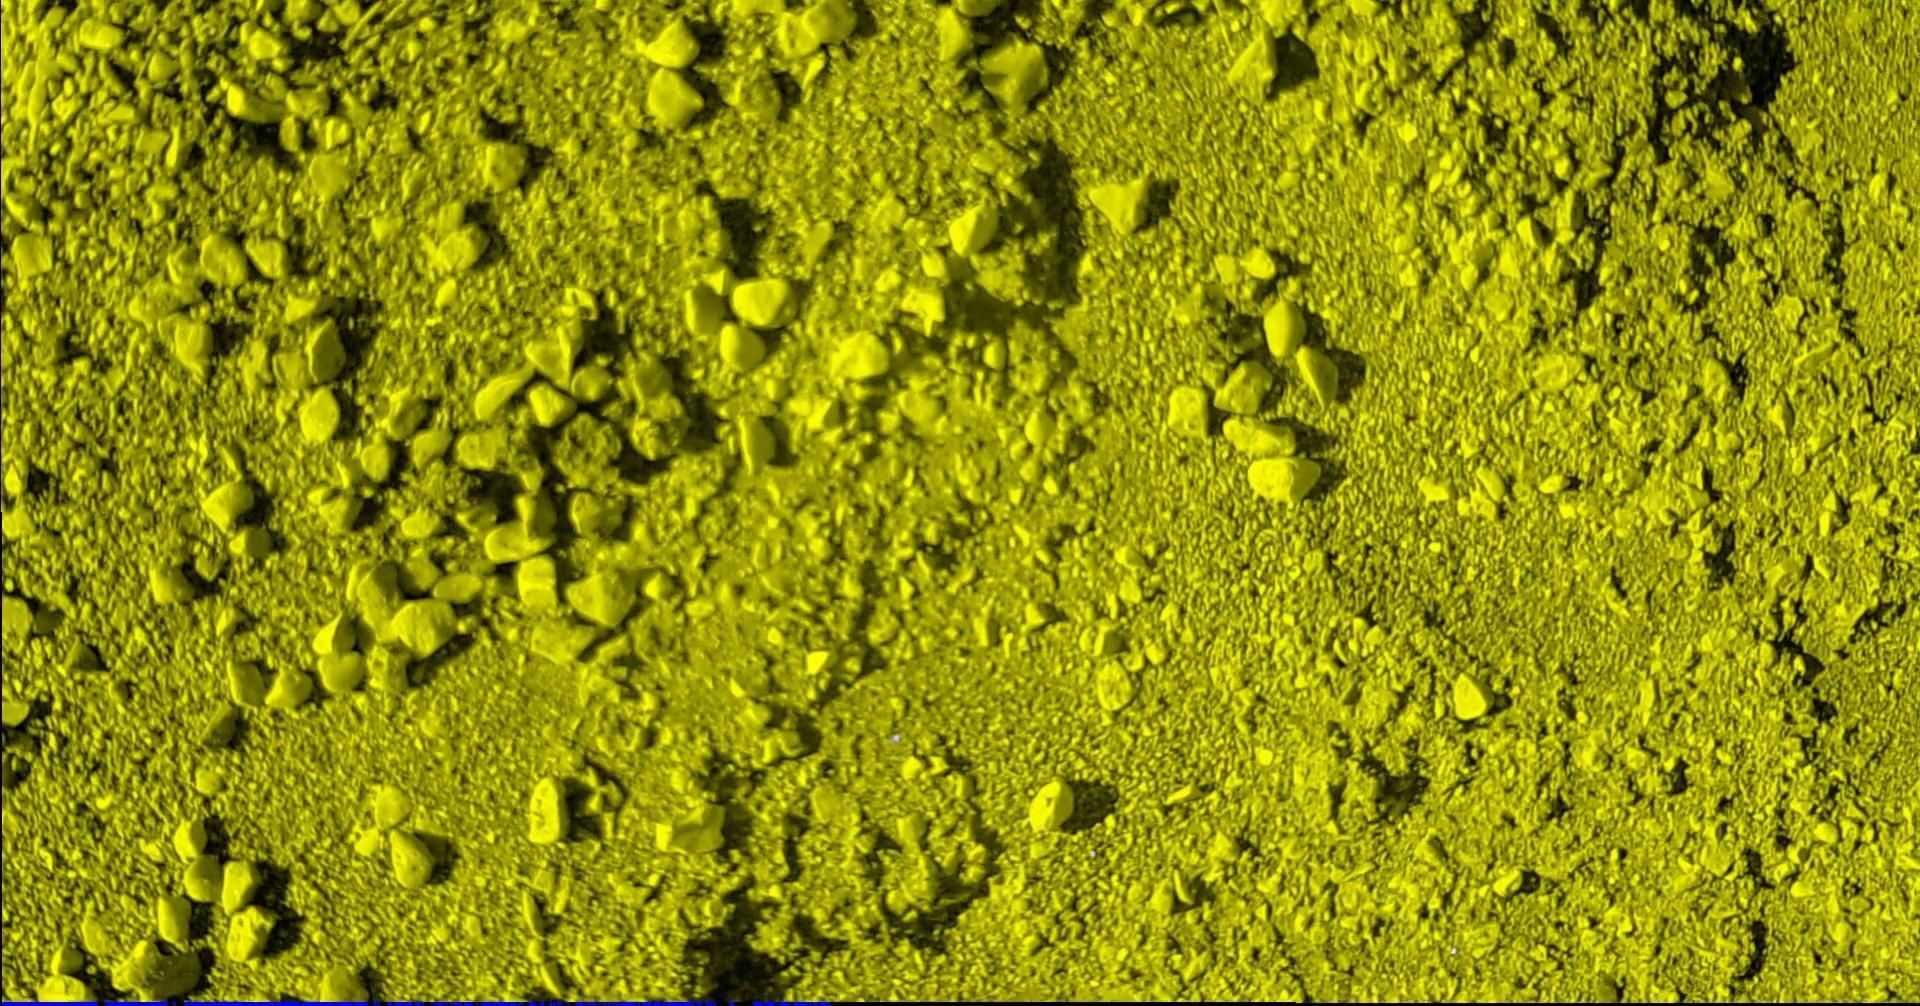ant: (182, 1000, 380, 1005), (0, 1000, 98, 1005), (750, 1000, 830, 1005), (103, 1000, 177, 1005)
